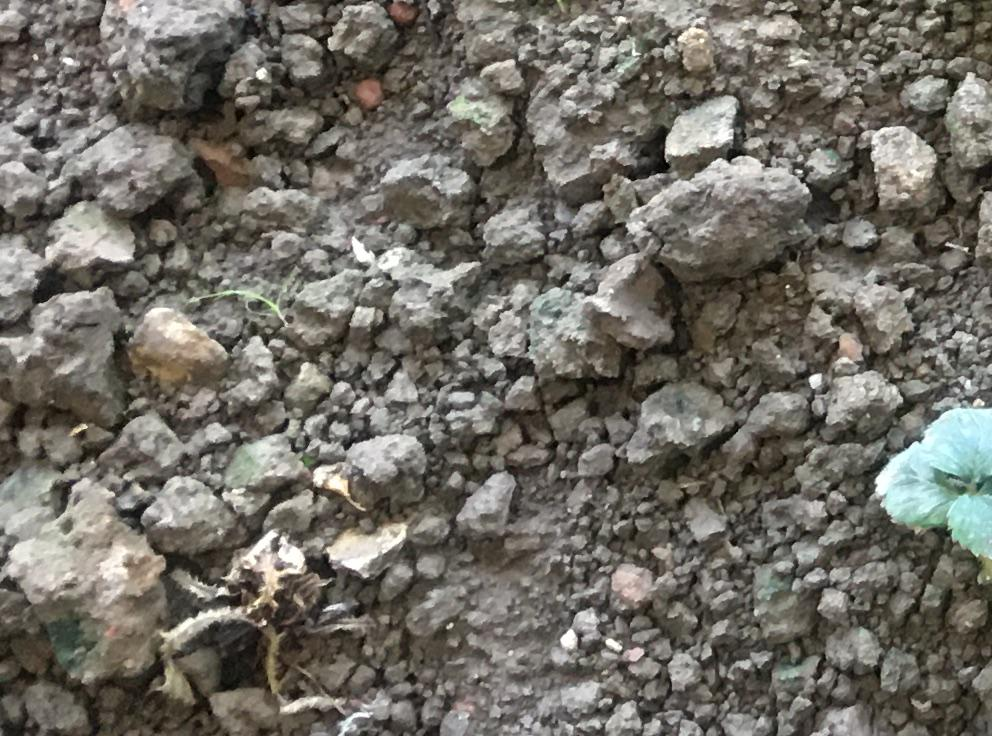block: (9, 479, 162, 687), (627, 156, 806, 278), (1, 287, 132, 430), (100, 1, 249, 118), (71, 120, 194, 215)
